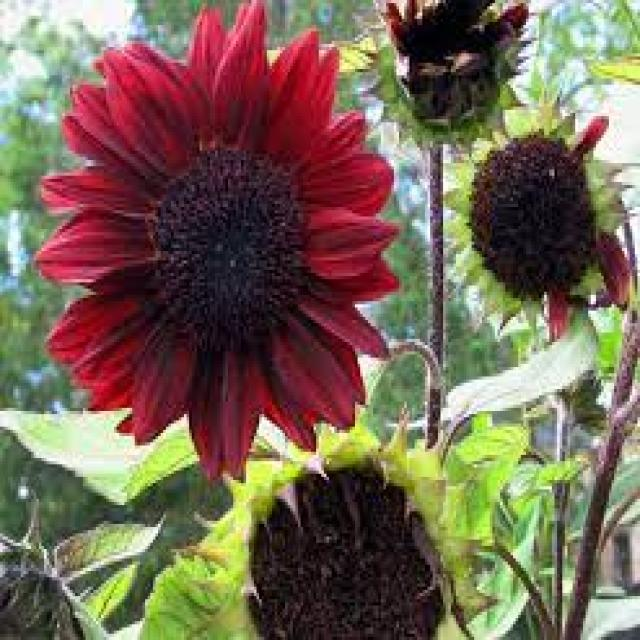sunflower: (30, 0, 408, 488), (403, 90, 637, 332), (223, 412, 464, 640), (362, 0, 540, 162)
